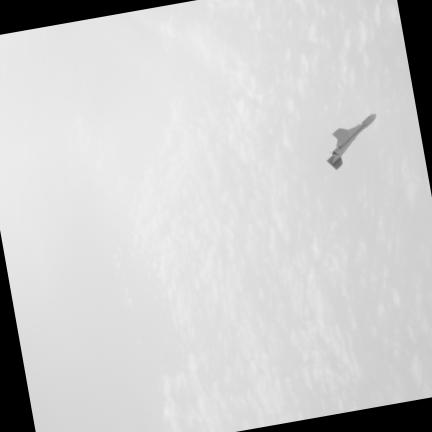Shahed: (327, 114, 375, 170)
